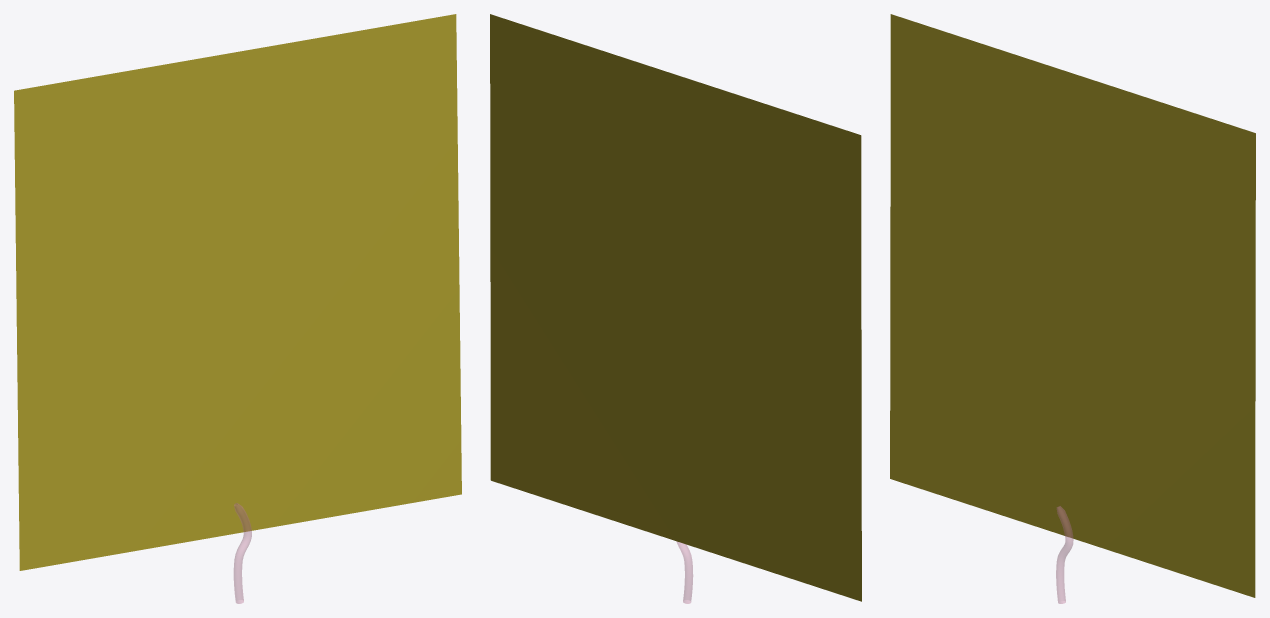
The model's file is frame_medium.glb.
3 views of the same model, side by side, from view 1: azimuth 30°, elevation 25°; view 2: azimuth 150°, elevation 25°; view 3: azimuth 330°, elevation 25° (orthographic). The views are drawn at different scales.
Parts seen in each view (by area): view 1: decorative_set_vol005_hamid_shk51.001; view 2: decorative_set_vol005_hamid_shk51.001; view 3: decorative_set_vol005_hamid_shk51.001.
Boxes of the visible parts, bbox=[...] form: decorative_set_vol005_hamid_shk51.001: bbox=[14, 14, 461, 603]; decorative_set_vol005_hamid_shk51.001: bbox=[490, 14, 861, 603]; decorative_set_vol005_hamid_shk51.001: bbox=[890, 14, 1255, 603].
Bounding box in the file's own units: 0.7293 × 0.9171 × 0.1079.
